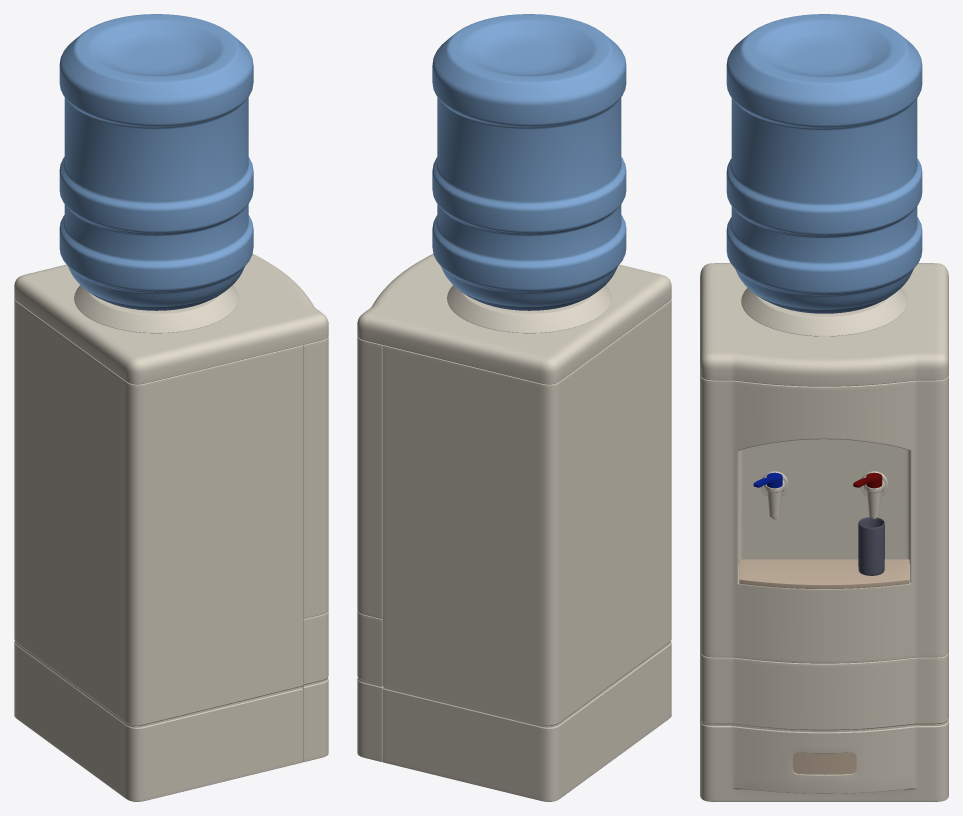
File: cooler2.FBX
The picture shows the model from 3 angles, left to right: view 1: azimuth 30°, elevation 25°; view 2: azimuth 150°, elevation 25°; view 3: azimuth 270°, elevation 25°; orthographic projection.
Visible parts, largest first — view 1: cooler001; view 2: cooler001; view 3: cooler001, voda.
Boxes of the visible parts, x1,y1,x2,y2 form: cooler001: [14, 14, 328, 801]; cooler001: [357, 14, 671, 801]; cooler001: [700, 14, 948, 801]; voda: [858, 517, 884, 575].
Size of the model in its own units: 502 by 1545 by 500.
